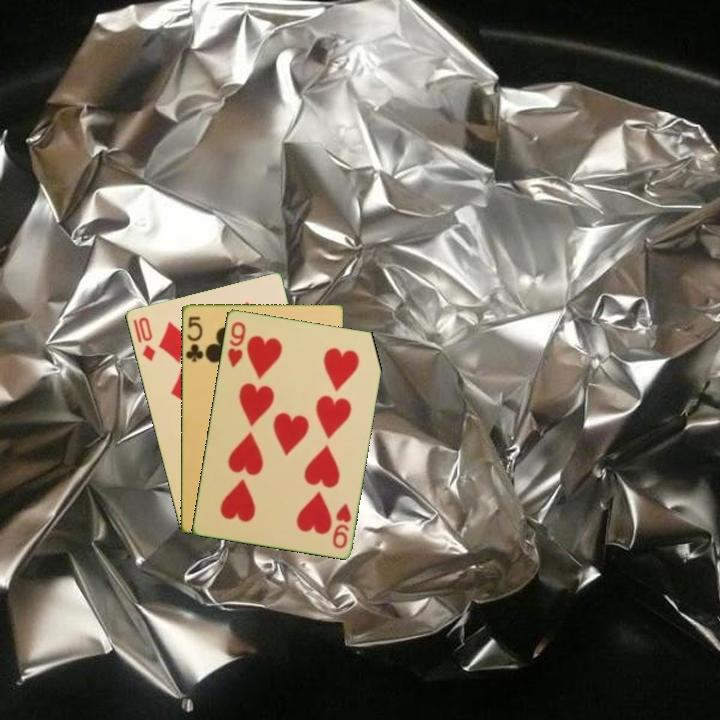10d: (129, 313, 158, 364)
5c: (182, 313, 206, 365)
9h: (223, 318, 248, 370), (329, 500, 354, 551)
